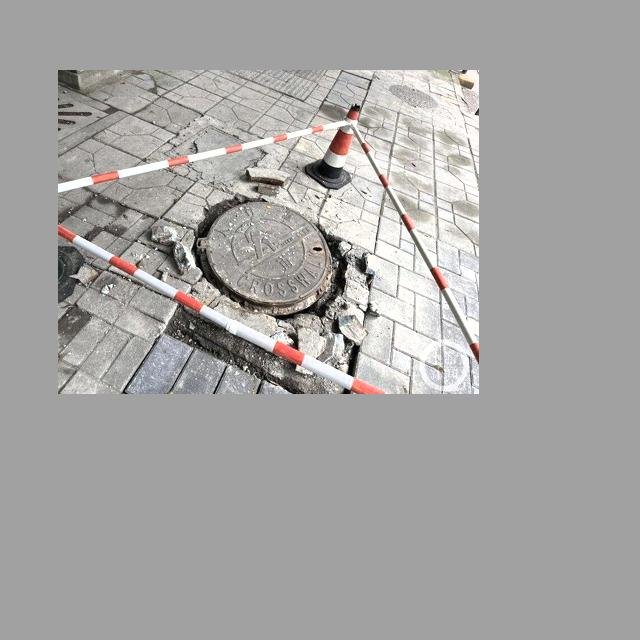circle: (161, 181, 367, 382)
